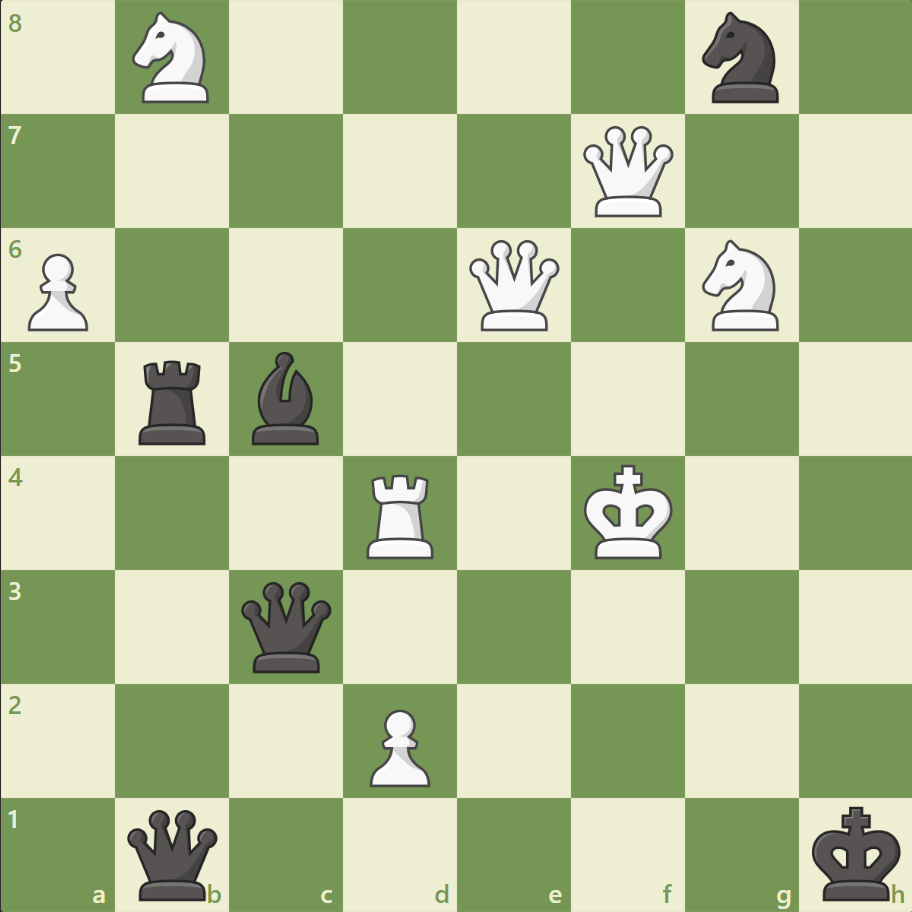K: (579, 458, 679, 566)
N: (124, 7, 222, 110), (692, 234, 789, 337)
P: (20, 246, 95, 337), (361, 700, 435, 791)
Q: (578, 122, 677, 222), (464, 236, 563, 335)
R: (360, 466, 442, 563)
b: (244, 347, 328, 449)
k: (806, 798, 906, 906)
n: (692, 7, 789, 110)
q: (237, 576, 336, 676), (124, 804, 223, 903)
r: (133, 352, 215, 449)
